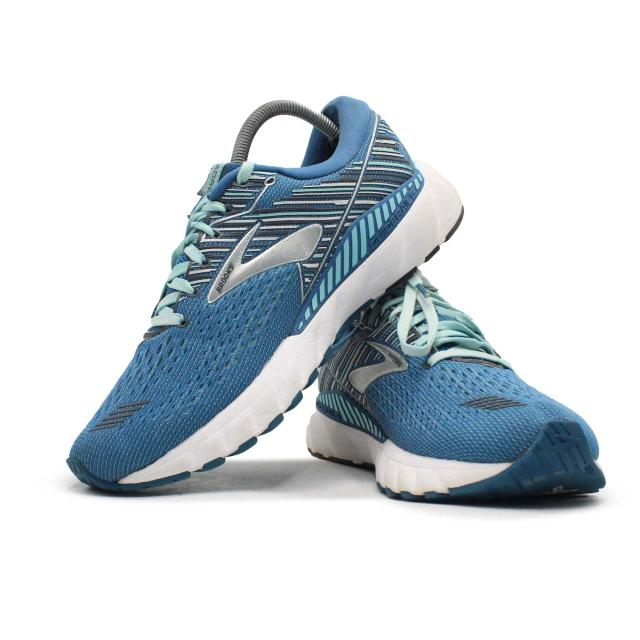heel: (330, 95, 422, 241)
midsole: (66, 163, 463, 492), (307, 407, 504, 502), (474, 420, 608, 504)
uppersole: (68, 157, 386, 480), (319, 277, 598, 460)
